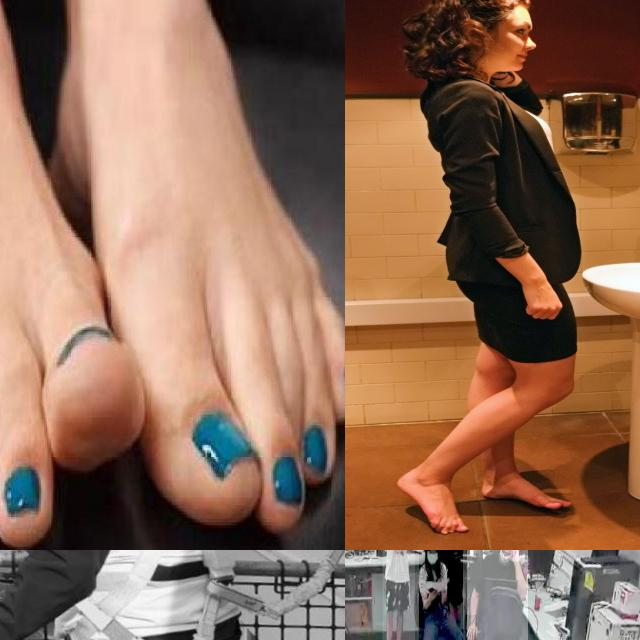Barefoots: (54, 0, 345, 550), (0, 0, 155, 550), (397, 470, 468, 534), (481, 478, 572, 508)
Harness: (194, 550, 345, 640)
face_mask: (426, 550, 439, 566)
face_nomask: (500, 550, 515, 559)
hand_noglove: (465, 614, 477, 640), (510, 550, 519, 562)
person: (467, 550, 528, 640), (418, 550, 463, 640), (382, 550, 415, 640)
